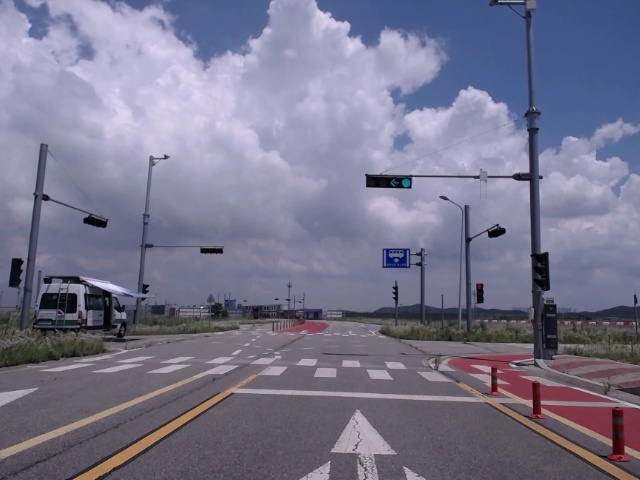all_green_4: (367, 175, 410, 186)
